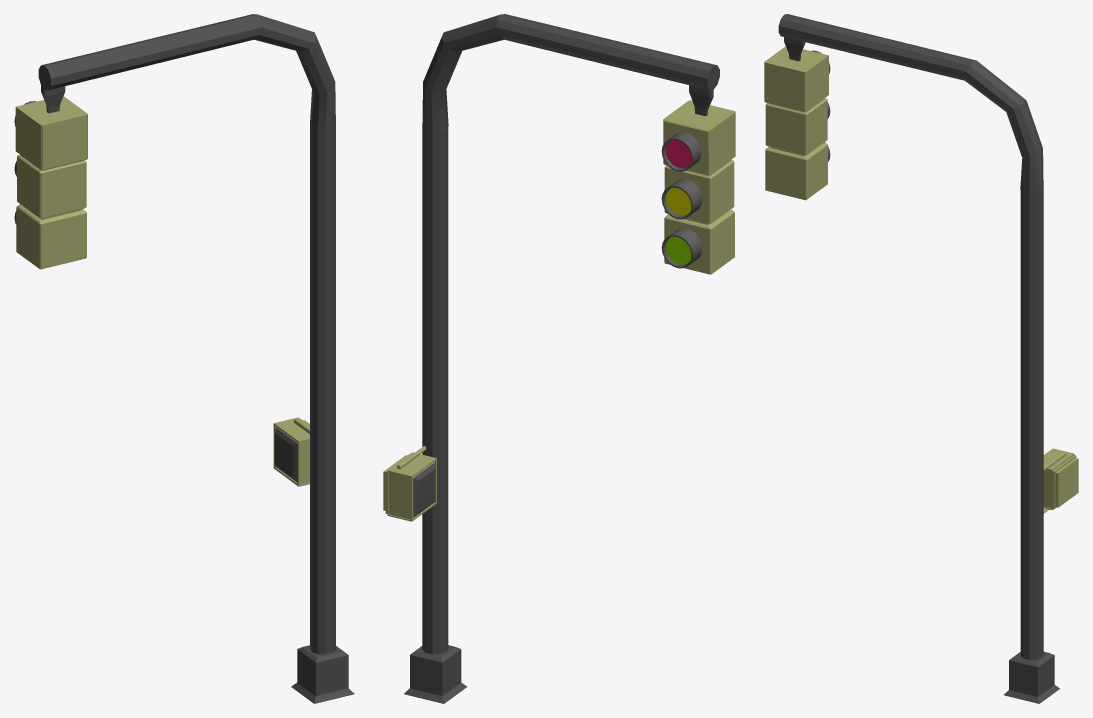
File: Traffic Light 2.fbx
3 views of the same model, side by side, from view 1: azimuth 30°, elevation 25°; view 2: azimuth 150°, elevation 25°; view 3: azimuth 330°, elevation 25° (orthographic). The views are drawn at different scales.
Parts seen in each view (by area): view 1: pasted__polySurface1466; view 2: pasted__polySurface1466; view 3: pasted__polySurface1466.
Part boxes in pixels (<box>): pasted__polySurface1466: <box>14,14,354,703</box>; pasted__polySurface1466: <box>383,14,735,703</box>; pasted__polySurface1466: <box>764,14,1078,703</box>.
Bounding box in the file's own units: 15.93 × 33.85 × 4.25.
